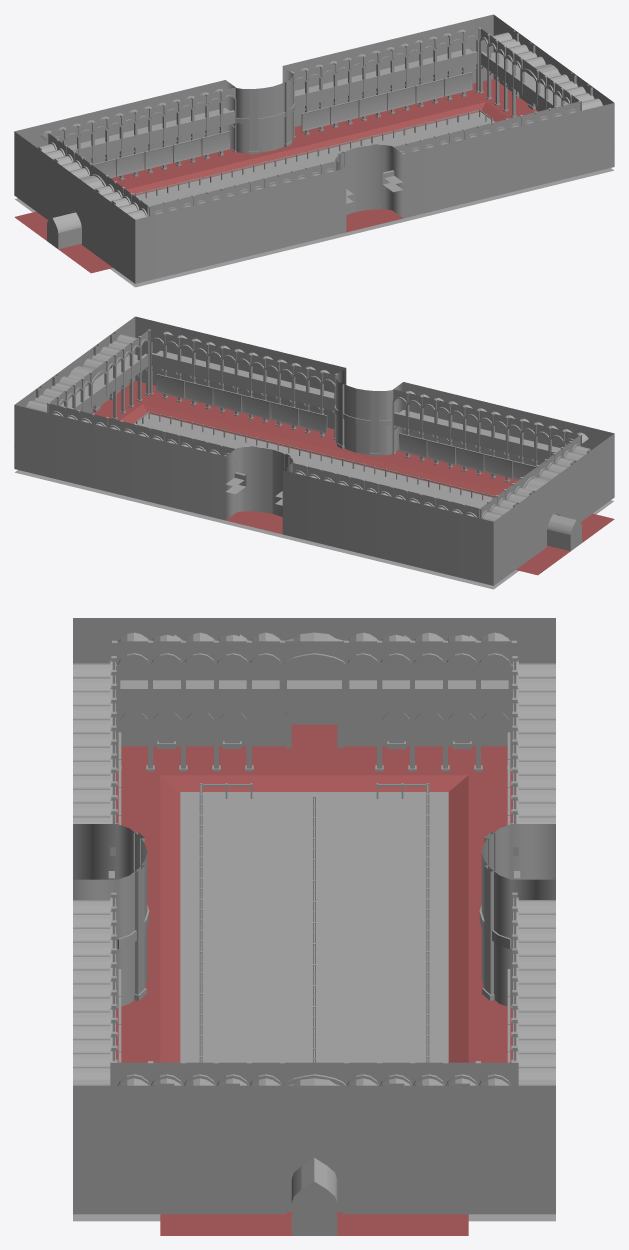
The model's file is Model_Track_0001.fbx.
3 views of the same model, one above another, from view 1: azimuth 30°, elevation 25°; view 2: azimuth 150°, elevation 25°; view 3: azimuth 270°, elevation 25° (orthographic). The views are drawn at different scales.
Visible parts, largest first — view 1: polySurface235, polySurface245, polySurface241, polySurface144, pCube359, polySurface246, polySurface11, pPlane23, pCube360, polySurface17, pCube345, transform56_polySurface112 (+1 smaller); view 2: polySurface235, polySurface245, polySurface241, polySurface144, pCube359, polySurface246, polySurface11, pPlane23, pCube360, polySurface17, pCube345, transform56_polySurface112 (+1 smaller); view 3: polySurface11, polySurface17, polySurface245, polySurface241, polySurface144, polySurface235, polySurface246, pCube359, pCube360, transform56_polySurface112, pCube345, pPlane23 (+1 smaller).
Part boxes in pixels (<box>): polySurface235: <box>15,14,614,283</box>; polySurface245: <box>14,78,538,273</box>; polySurface241: <box>39,27,602,219</box>; polySurface144: <box>14,131,135,283</box>; pCube359: <box>46,35,577,216</box>; polySurface246: <box>68,48,568,203</box>; polySurface11: <box>15,112,613,287</box>; pPlane23: <box>93,72,472,178</box>; pCube360: <box>48,27,580,212</box>; polySurface17: <box>493,15,613,111</box>; pCube345: <box>133,109,492,198</box>; transform56_polySurface112: <box>36,30,592,205</box>; polySurface235: <box>14,316,613,585</box>; polySurface245: <box>90,380,614,575</box>; polySurface241: <box>26,329,589,521</box>; polySurface144: <box>493,433,614,585</box>; pCube359: <box>51,337,582,518</box>; polySurface246: <box>60,350,560,505</box>; polySurface11: <box>15,414,613,589</box>; pPlane23: <box>156,374,535,480</box>; pCube360: <box>48,329,580,514</box>; polySurface17: <box>15,317,135,413</box>; pCube345: <box>136,411,495,500</box>; transform56_polySurface112: <box>36,332,592,507</box>; polySurface11: <box>73,792,555,1221</box>; polySurface17: <box>73,1085,555,1235</box>; polySurface245: <box>116,724,512,1235</box>; polySurface241: <box>73,632,555,1085</box>; polySurface144: <box>73,618,555,748</box>; polySurface235: <box>73,824,555,1007</box>; polySurface246: <box>73,680,555,1085</box>; pCube359: <box>110,653,518,1085</box>; pCube360: <box>111,640,517,1085</box>; transform56_polySurface112: <box>157,620,471,1085</box>; pCube345: <box>199,783,429,1062</box>; pPlane23: <box>118,732,510,1062</box>.
Bounding box in the file's own units: 3966 × 491 × 1584.
